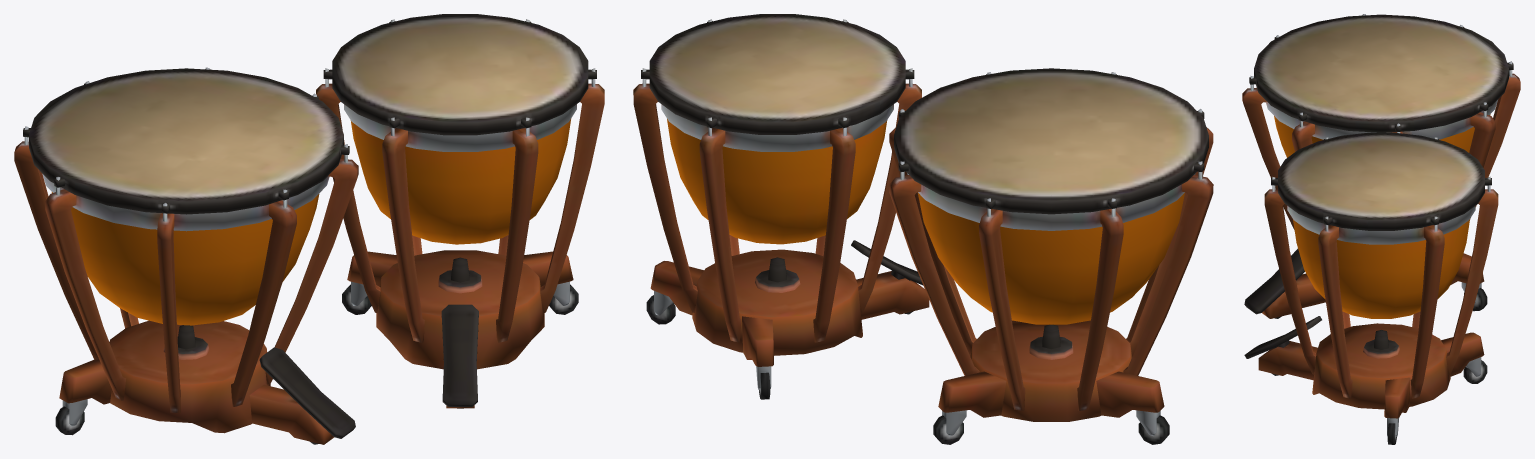
3 renders of one model, left to right at view 1: azimuth 30°, elevation 25°; view 2: azimuth 150°, elevation 25°; view 3: azimuth 270°, elevation 25°, orthographic. The views are drawn at different scales.
Size of the model in its own units: 18.01 by 8.73 by 9.83.
Materials: 1 (1 with a texture image).
